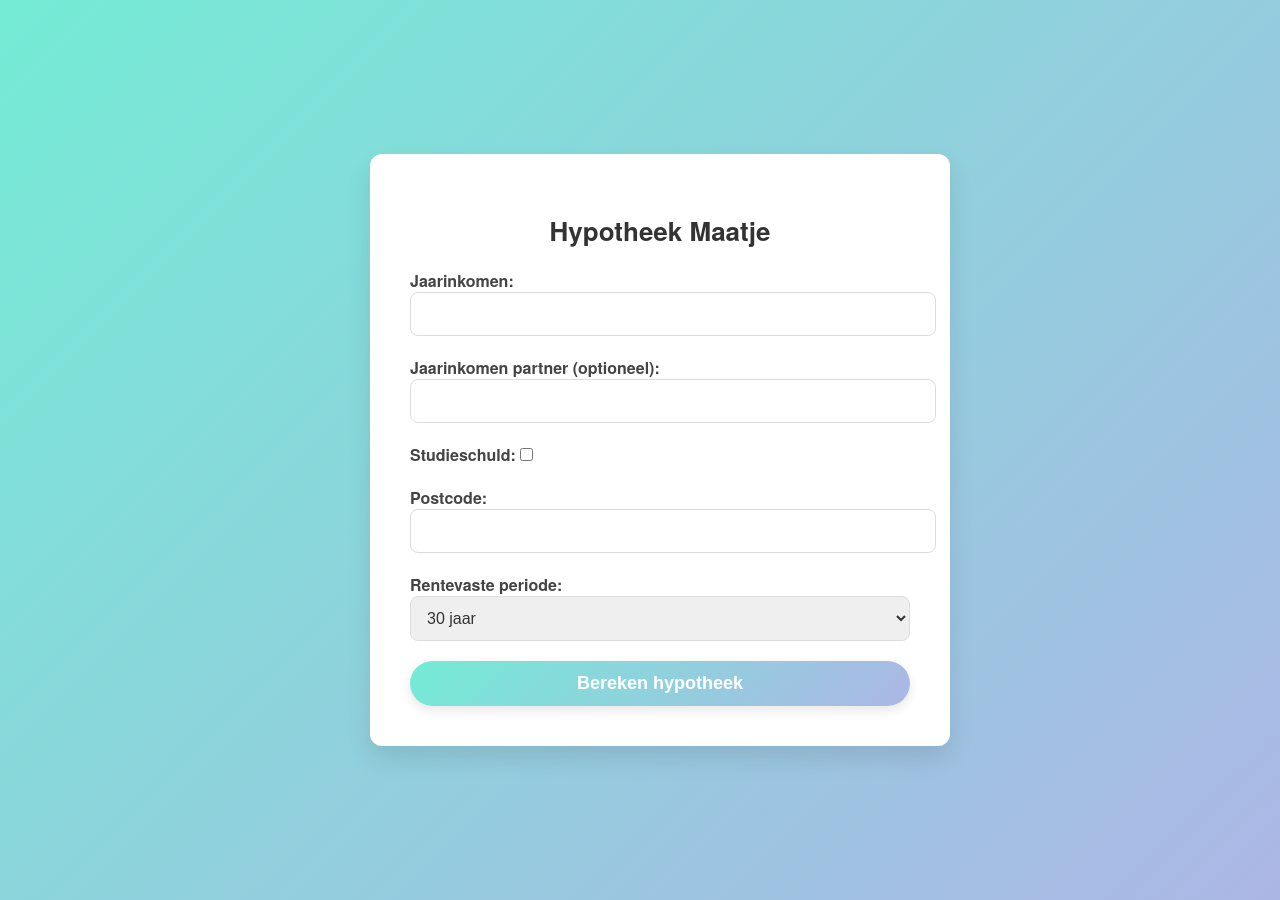
Hypotheek Maatje › berekent de hypotheek correct zonder partner inkomen en studieschuld
Voer jaarinkomen in
Type "50000" into the number field labelled "Jaarinkomen:" at (673, 314), box [410, 292, 936, 336]
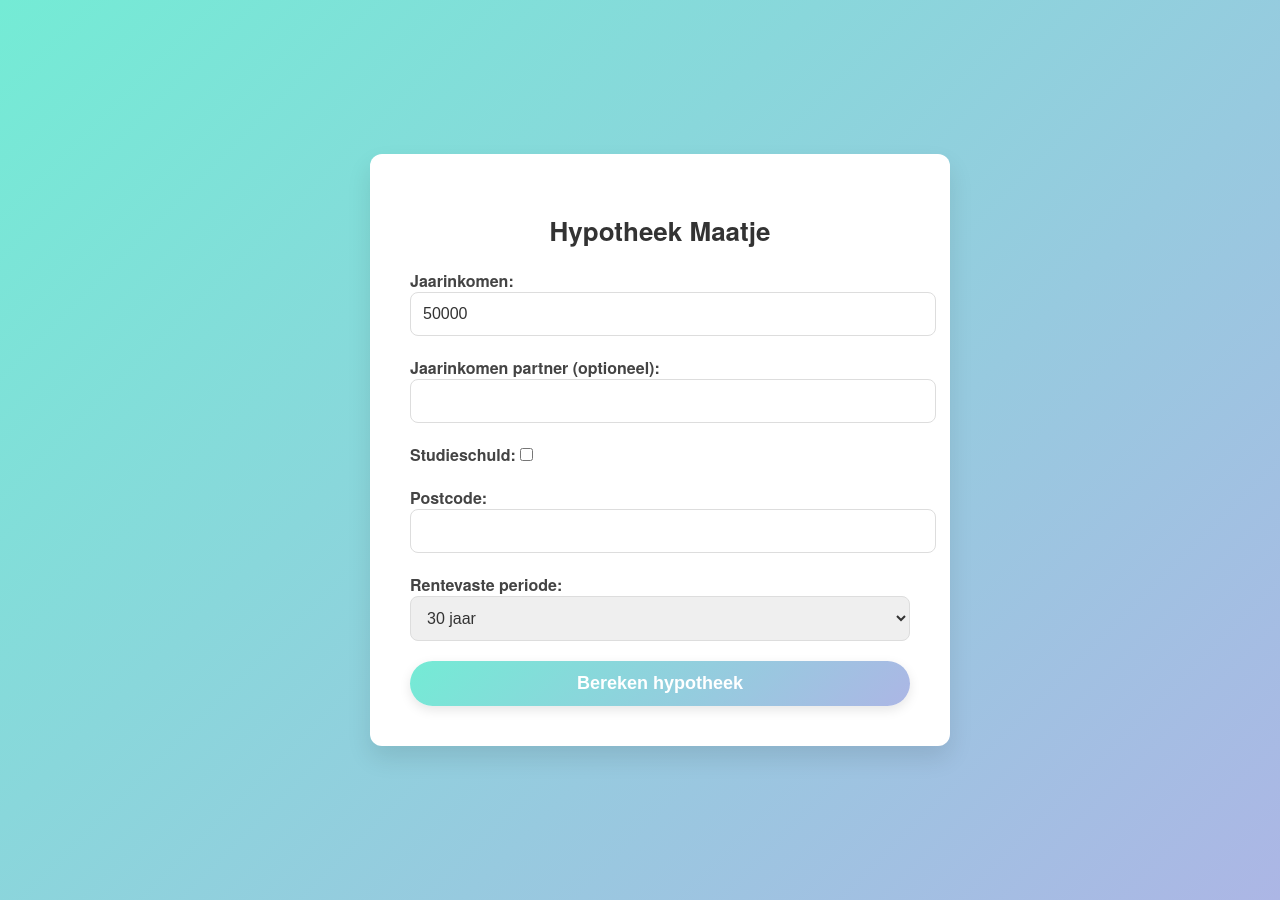
Voer postcode in
Type "1234AB" into the field labelled "Postcode:" at (673, 531), box [410, 509, 936, 553]
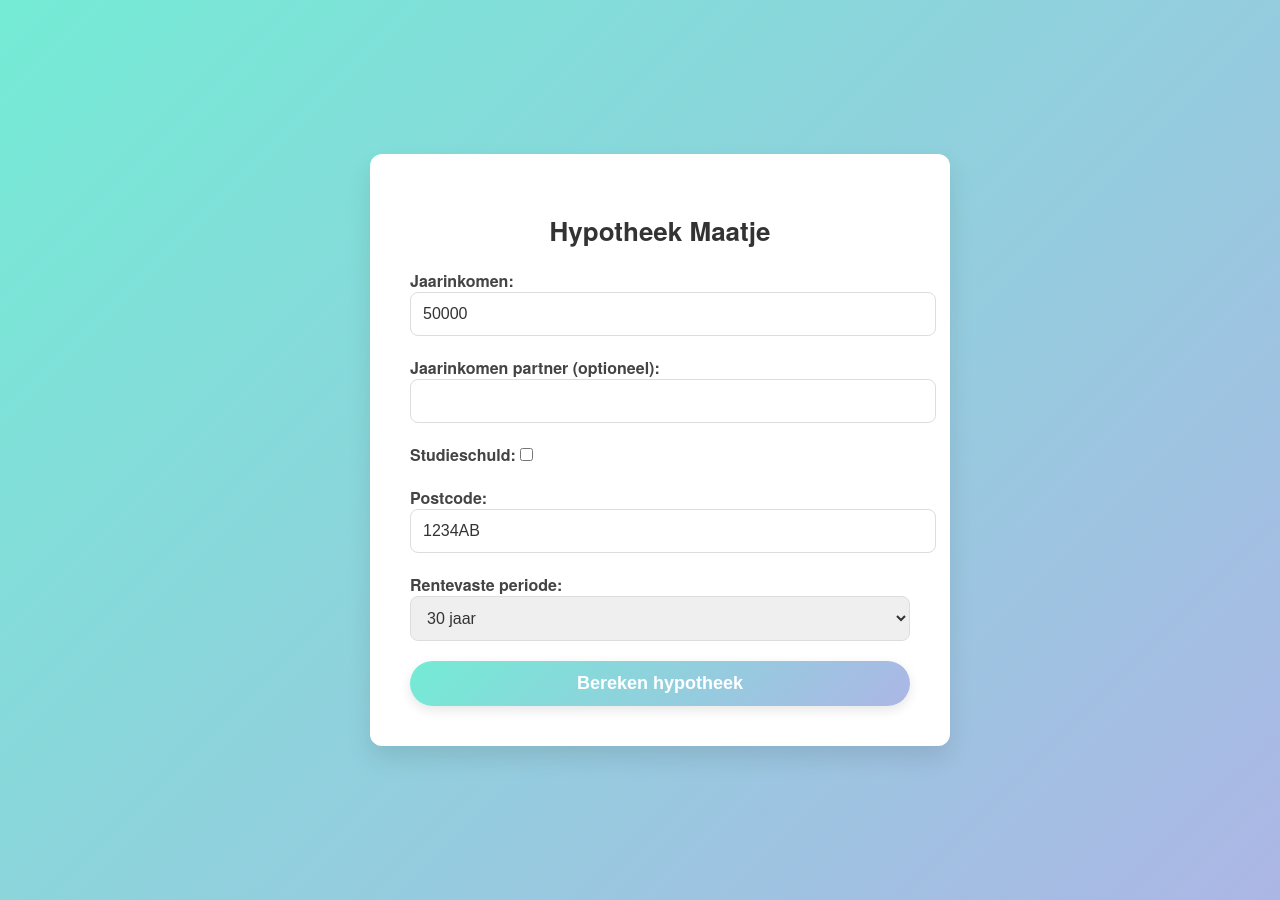
Selecteer rentevaste periode
Select "30 jaar" in the dropdown labelled "Rentevaste periode:" at (660, 618), box [410, 596, 910, 641]
Klik op bereken knop
Click the button "Bereken hypotheek" at (660, 683), box [410, 661, 910, 706]
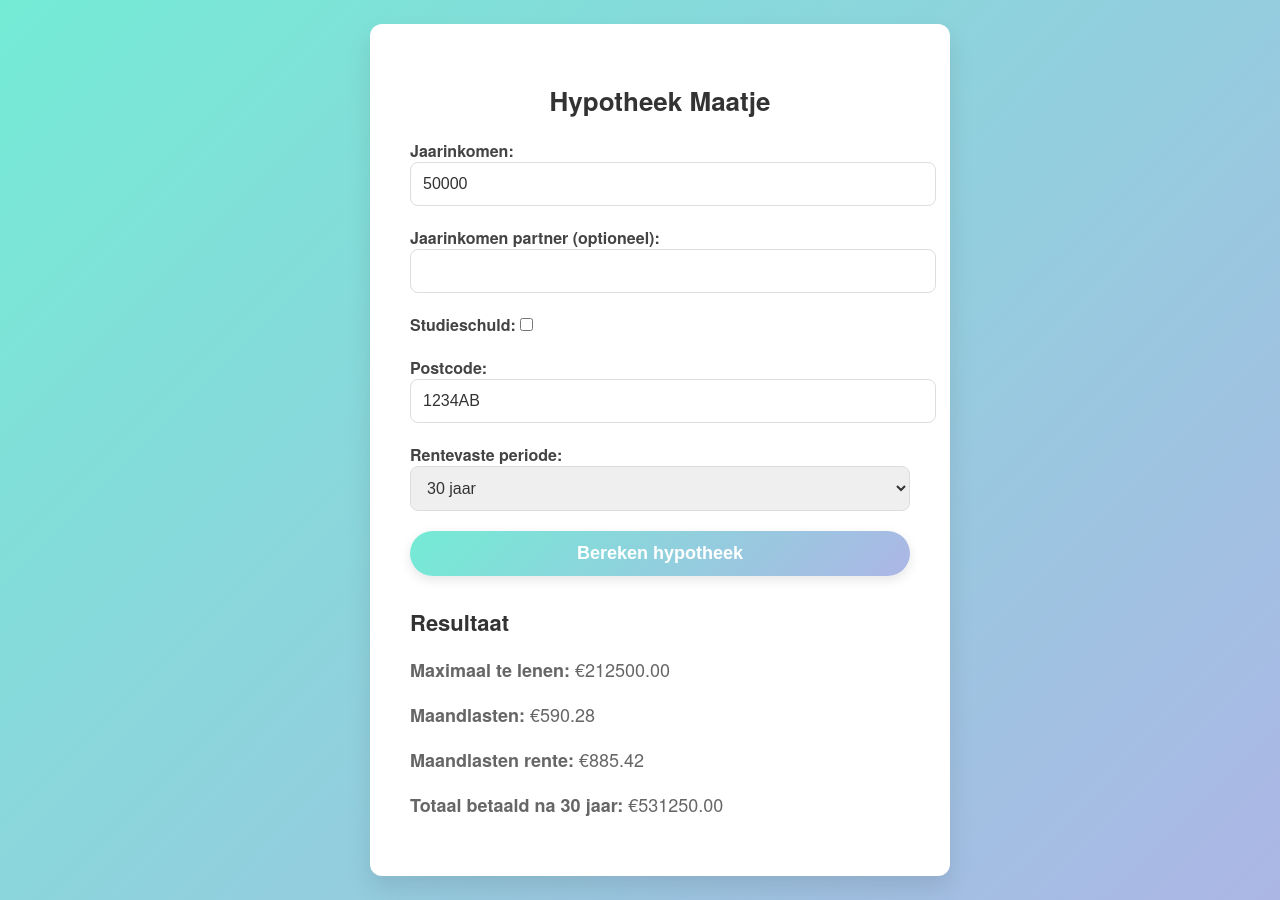
Result: the text "Maximaal te lenen:" is shown at [410, 657, 570, 683]
Result: the text "€212500.00" is shown at [410, 656, 670, 683]
